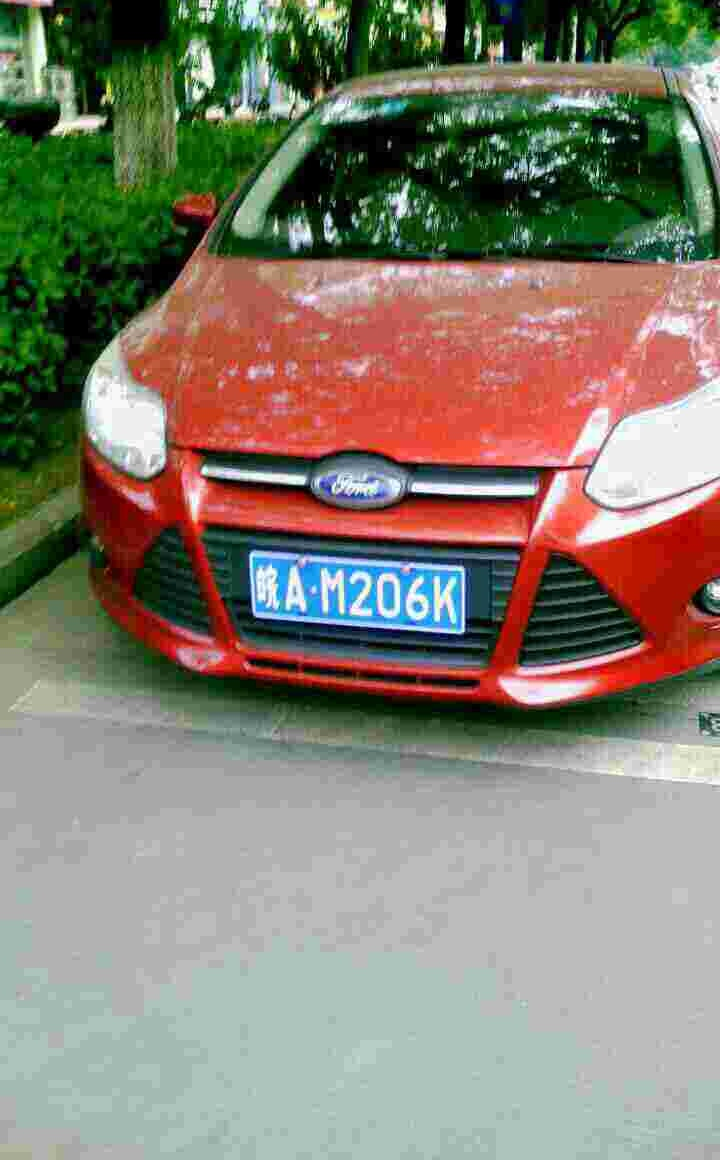plate: (250, 548, 469, 638)
